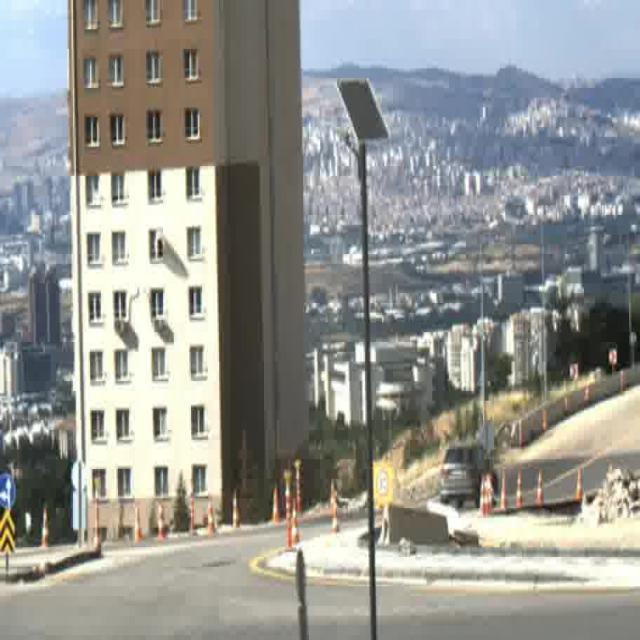Car: (442, 442, 500, 507)
